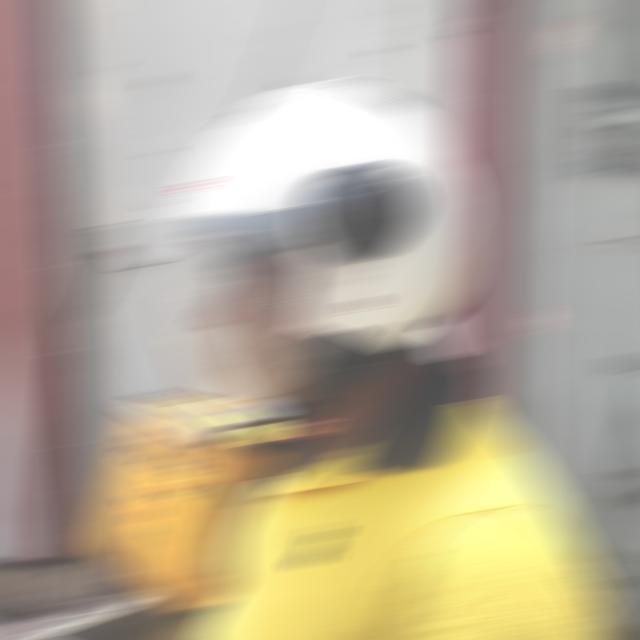With Helmet: (157, 80, 483, 410)
